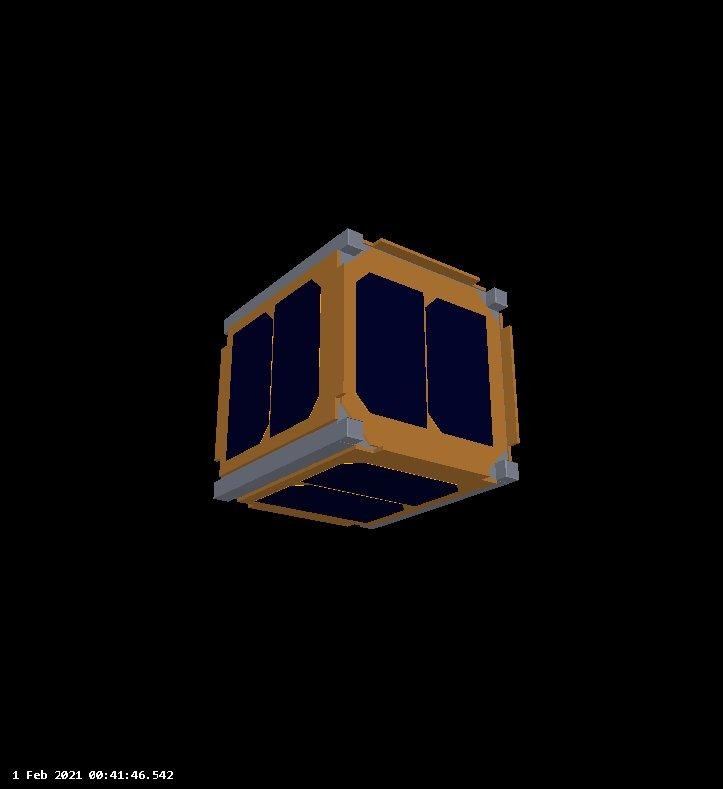body: (209, 225, 524, 533)
solar: (353, 267, 496, 449), (222, 275, 327, 466), (251, 460, 465, 527)
